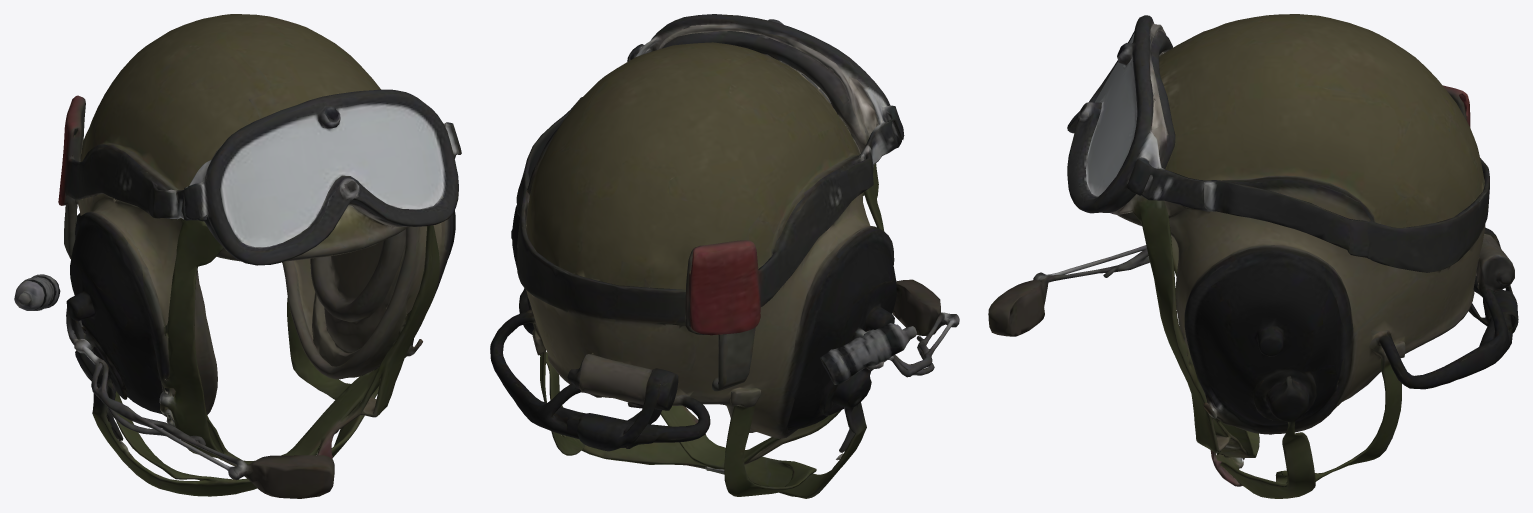
File: headgear.glb
3 renders of one model, left to right at view 1: azimuth 30°, elevation 25°; view 2: azimuth 150°, elevation 25°; view 3: azimuth 270°, elevation 25°, orthographic.
Visible parts, largest first — view 1: geometry_0; view 2: geometry_0; view 3: geometry_0.
Boxes of the visible parts, <box> form: geometry_0: <box>14,14,461,498</box>; geometry_0: <box>490,14,959,498</box>; geometry_0: <box>988,14,1518,498</box>.
Bounding box in the file's own units: 0.9195 × 0.9149 × 1.
Materials: 1 (1 with a texture image).
